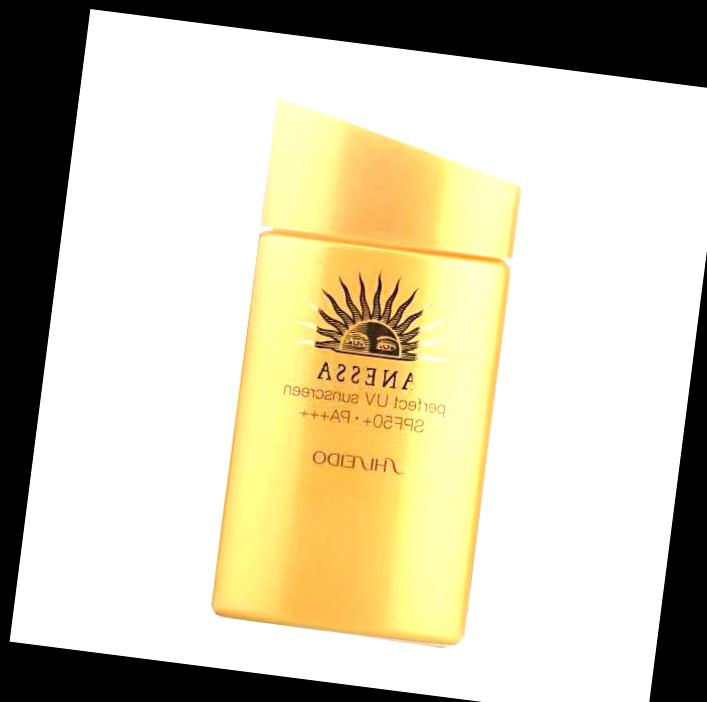cosmetic: (209, 80, 528, 646)
